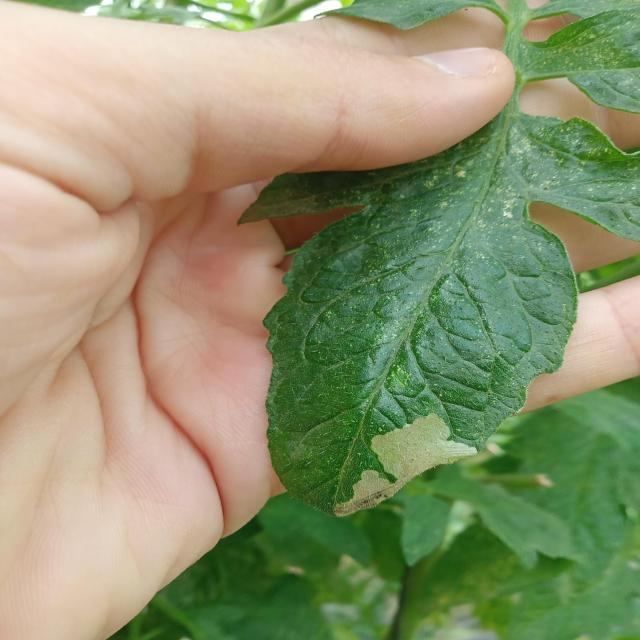Tuta absoluta: (312, 401, 481, 522)
